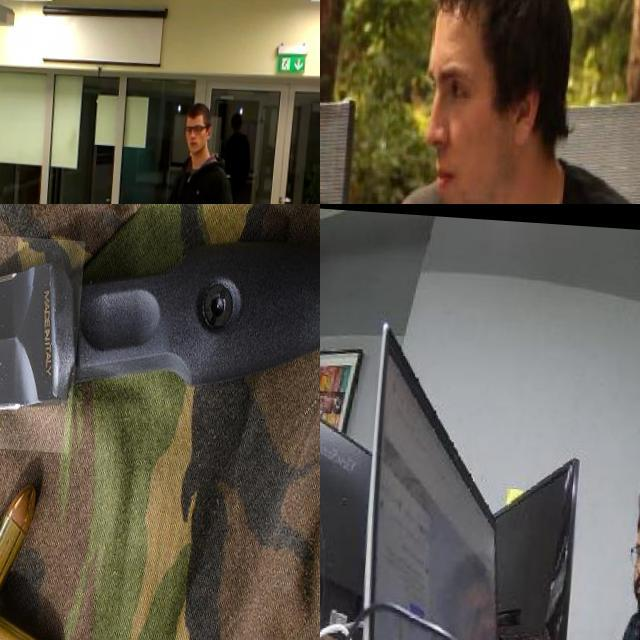-: (0, 218, 165, 448)
